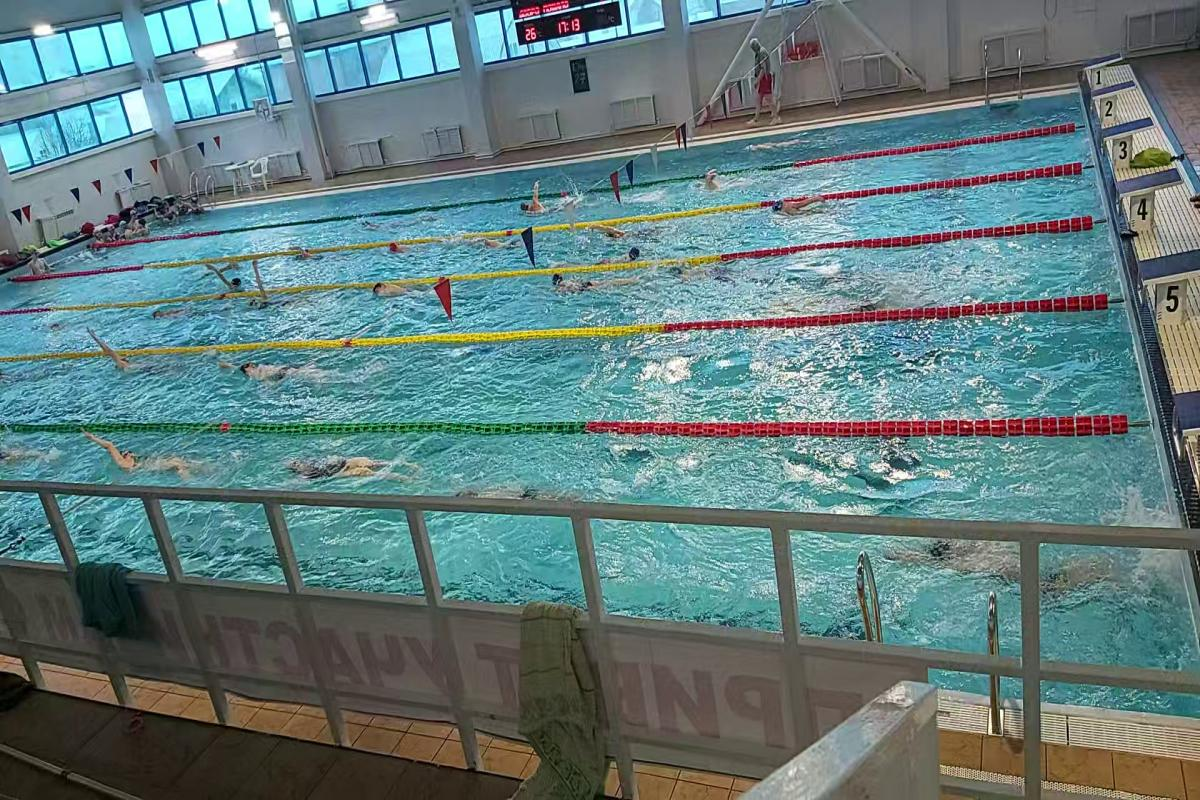swimmer: (81, 429, 210, 481), (220, 355, 340, 390), (80, 328, 160, 377), (287, 450, 401, 482), (772, 189, 830, 224), (548, 269, 624, 295), (367, 279, 432, 302), (518, 182, 558, 214), (588, 221, 658, 238), (140, 304, 194, 326), (693, 169, 732, 196), (208, 268, 248, 290)
